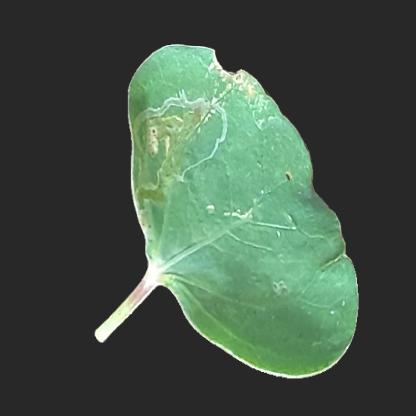healthy: (180, 170, 314, 308), (233, 306, 337, 364)
